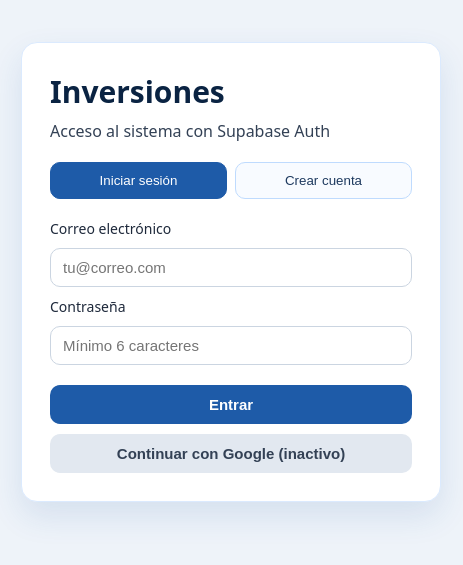
Scenario: LoginPage › muestra error de autenticacion en inicio de sesion
Step 1. Type "demo@correo.com" into the field labelled "Correo electrónico" → (231, 268), box [50,248,412,287]
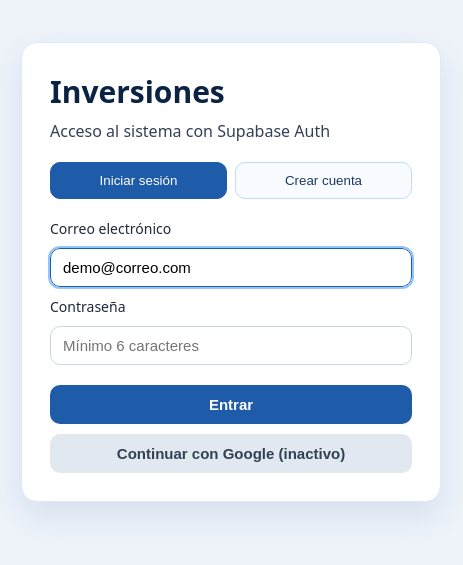
Step 2. Type "123456" into the password field labelled "Contraseña" → (231, 346), box [50,326,412,365]
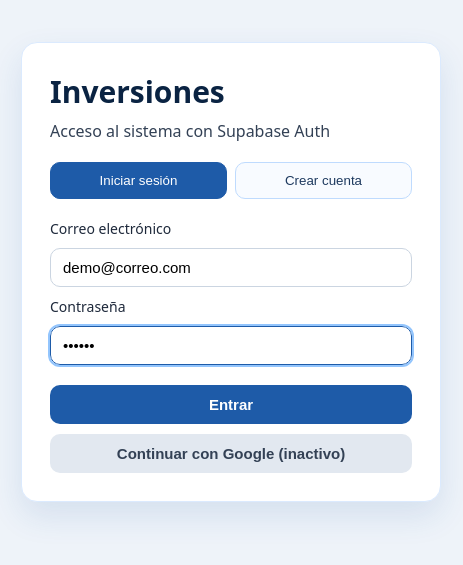
Step 3. Click the button "Entrar" → click(231, 404), box [50,385,412,424]
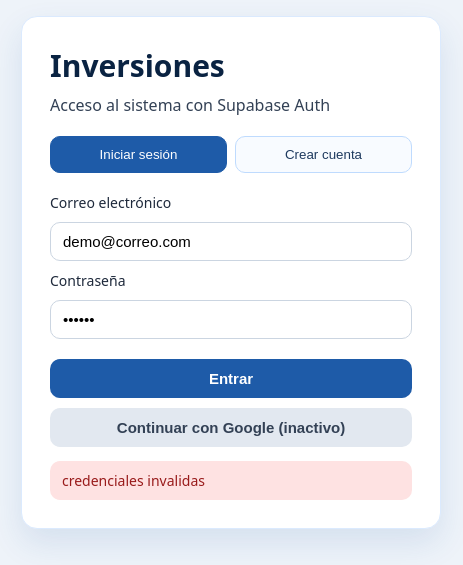
Check: the text "credenciales invalidas" is shown, box [50,460,412,500]
